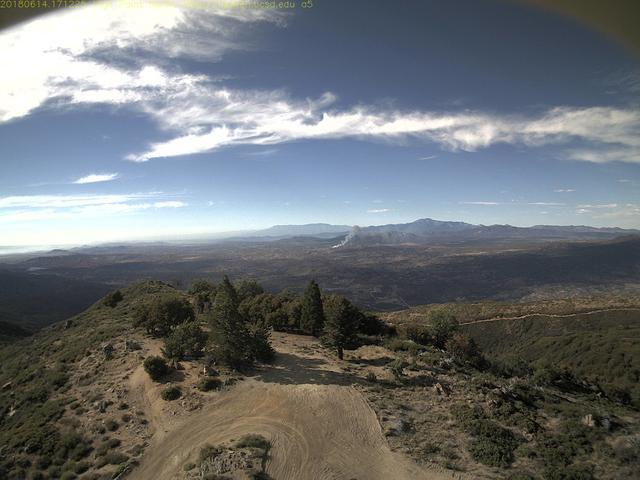smoke: (326, 224, 385, 252)
